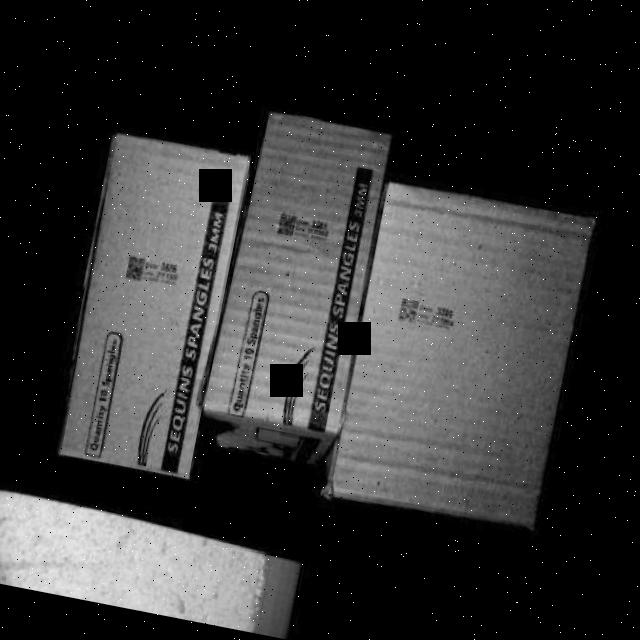box: (326, 182, 594, 531), (49, 128, 249, 478), (214, 102, 399, 440)
